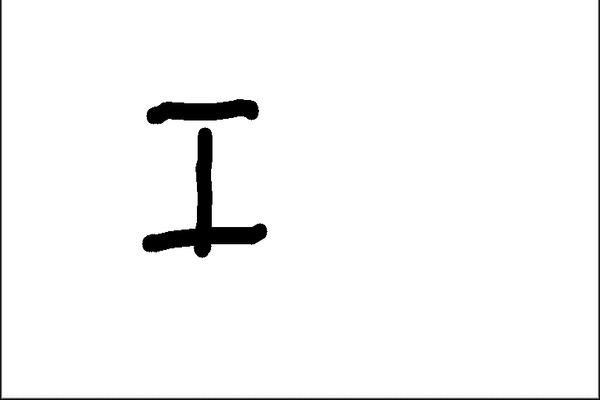i: (132, 90, 275, 258)
